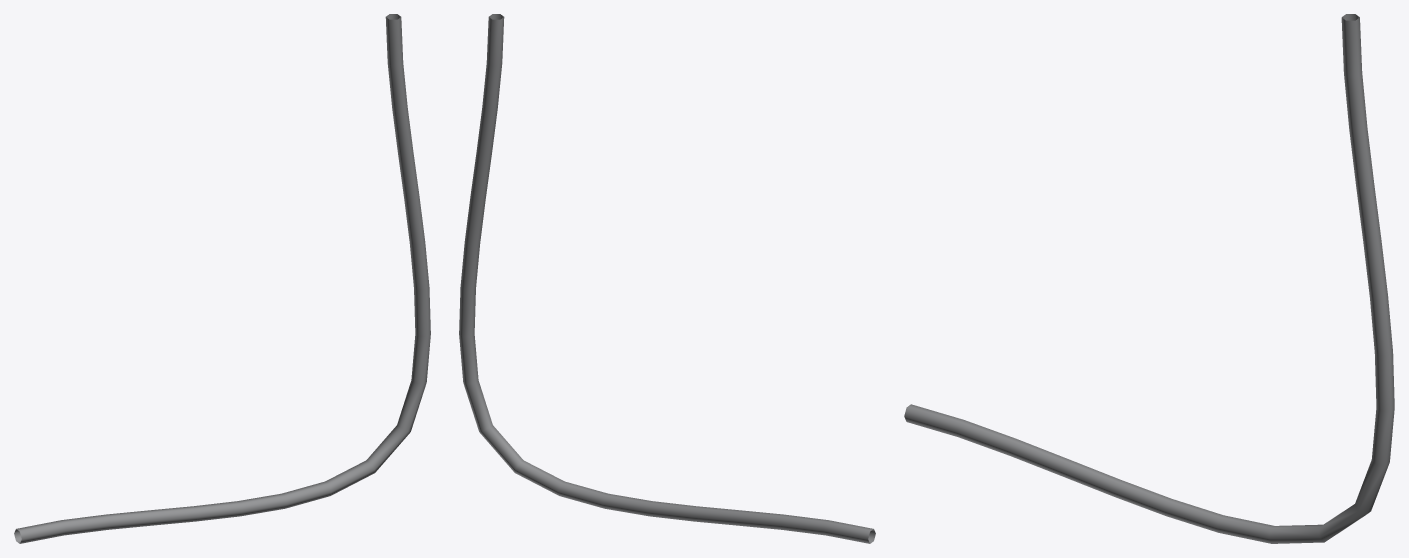
3 views of the same model, side by side, from view 1: azimuth 30°, elevation 25°; view 2: azimuth 150°, elevation 25°; view 3: azimuth 330°, elevation 25° (orthographic). The views are drawn at different scales.
Bounding box in the file's own units: 0.8961 × 0.9658 × 0.0294.
